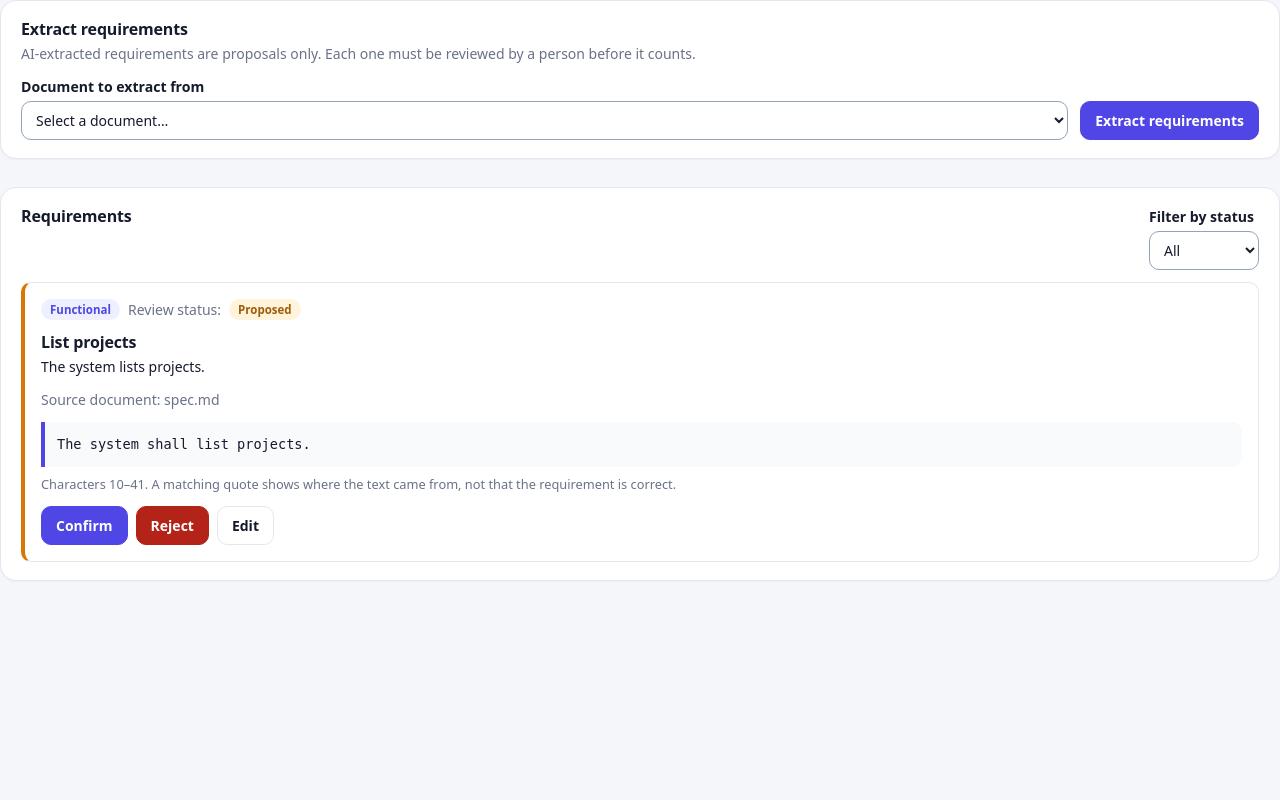
RequirementsSection › shows validation errors from extraction and keeps existing items
The image size is (1280, 800).
Expected: the heading "List projects" is shown, top-left (41, 332), bottom-right (136, 354)
Select "spec.md" in the dropdown labelled "Document to extract from". click: (545, 121)
box: top-left (21, 101), bottom-right (1068, 140)
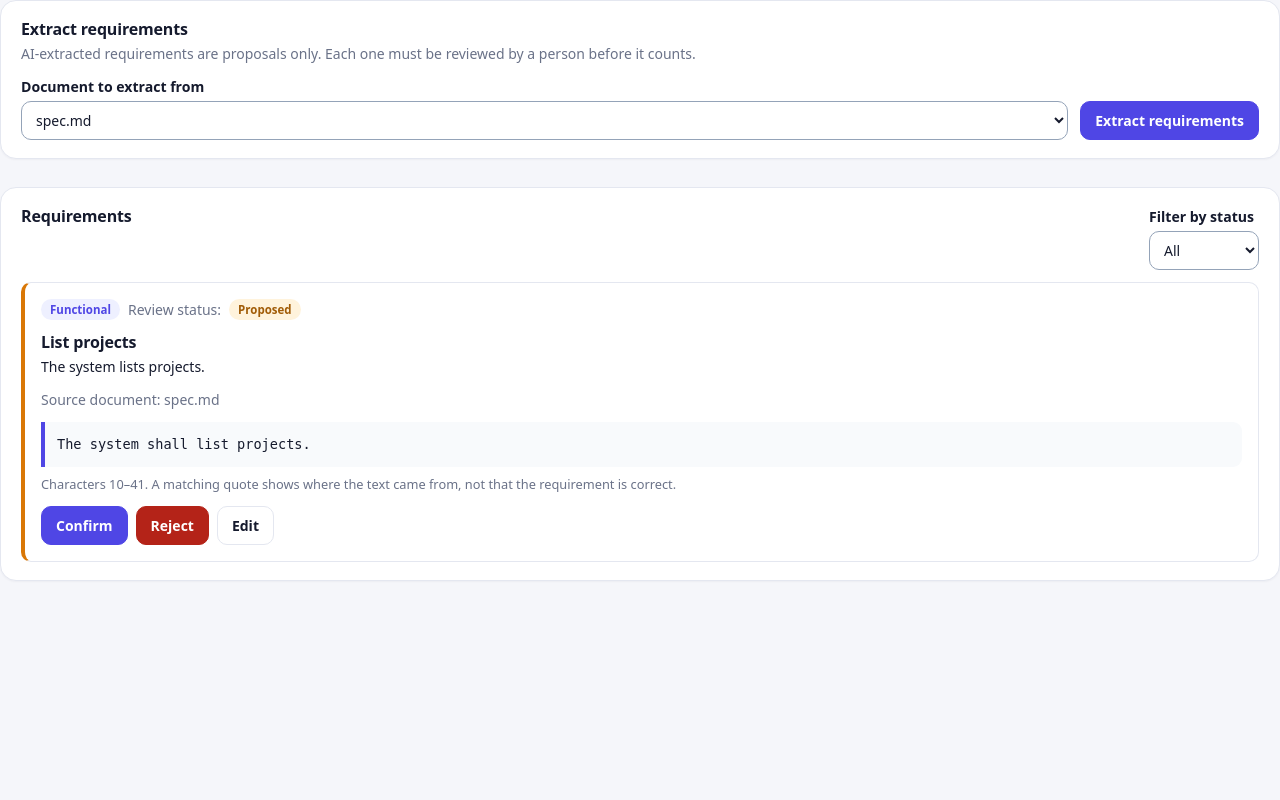
Click the button "Extract requirements". click: (1170, 121)
box: top-left (1080, 101), bottom-right (1259, 140)
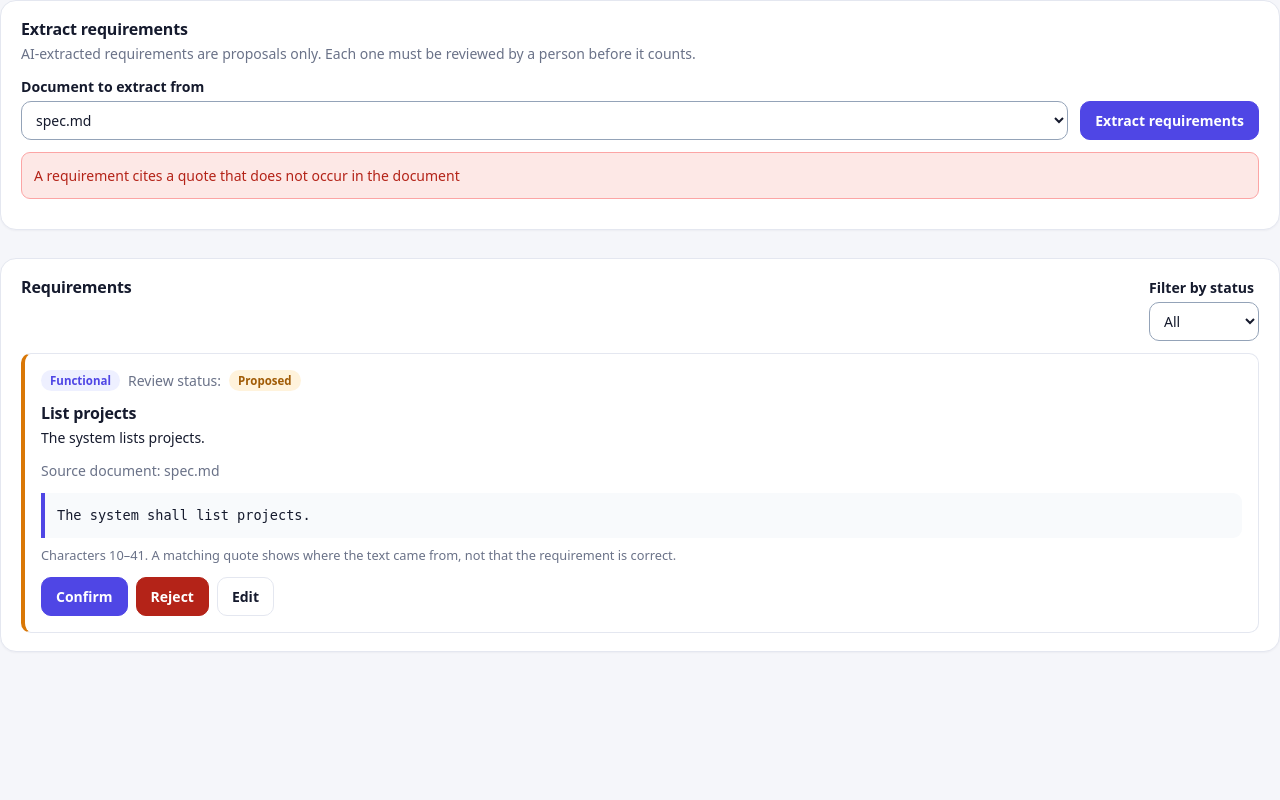
Expected: the heading "List projects" is shown, top-left (41, 402), bottom-right (136, 424)
Result: the message shows "does not occur in the document" at top-left (34, 166), bottom-right (460, 185)
